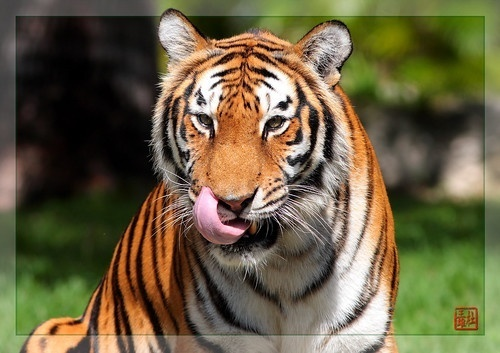tigre: (36, 7, 405, 353)
